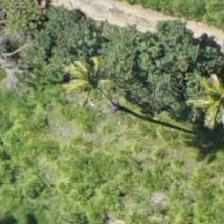coconut_tree: (44, 36, 134, 126)
